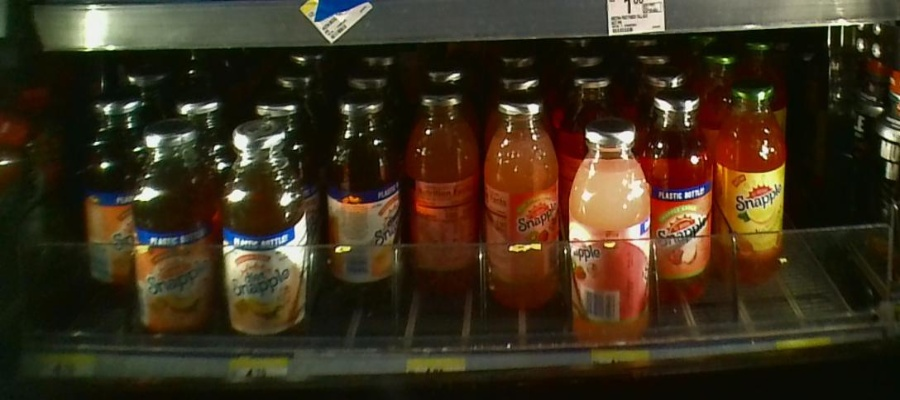bottle: (218, 120, 310, 341), (569, 120, 650, 343), (481, 103, 561, 308), (136, 128, 213, 336), (715, 79, 787, 301), (323, 89, 401, 286), (408, 88, 475, 285), (653, 89, 711, 300), (83, 95, 135, 285)
